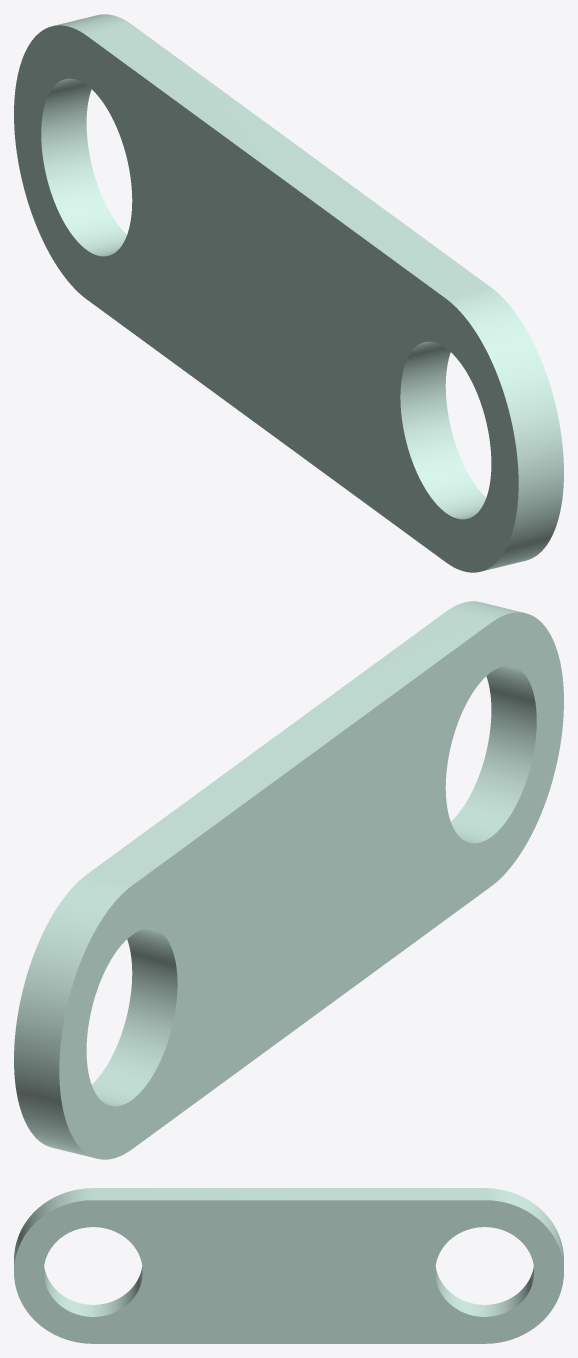
3 views of the same model, one above another, from view 1: azimuth 30°, elevation 25°; view 2: azimuth 150°, elevation 25°; view 3: azimuth 270°, elevation 25° (orthographic). The views are drawn at different scales.
Visible parts, largest first — view 1: Renderer Node; view 2: Renderer Node; view 3: Renderer Node.
Boxes of the visible parts, bbox=[...] form: Renderer Node: bbox=[14, 14, 563, 572]; Renderer Node: bbox=[14, 601, 563, 1159]; Renderer Node: bbox=[14, 1188, 563, 1343].
Size of the model in its own units: 0.0781 by 0.4342 by 1.51.
